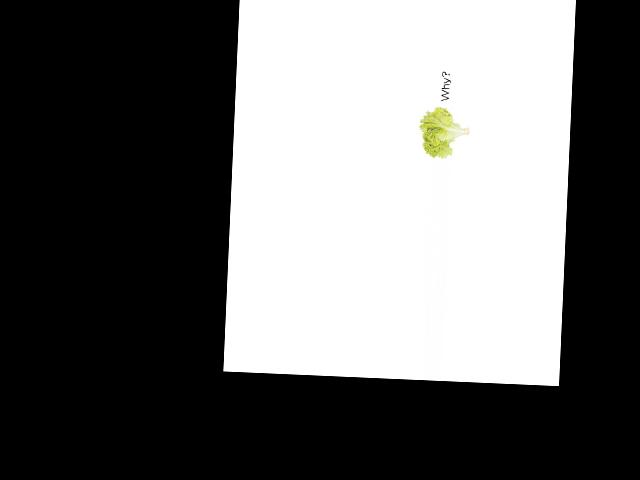lettuce: (417, 101, 471, 161)
